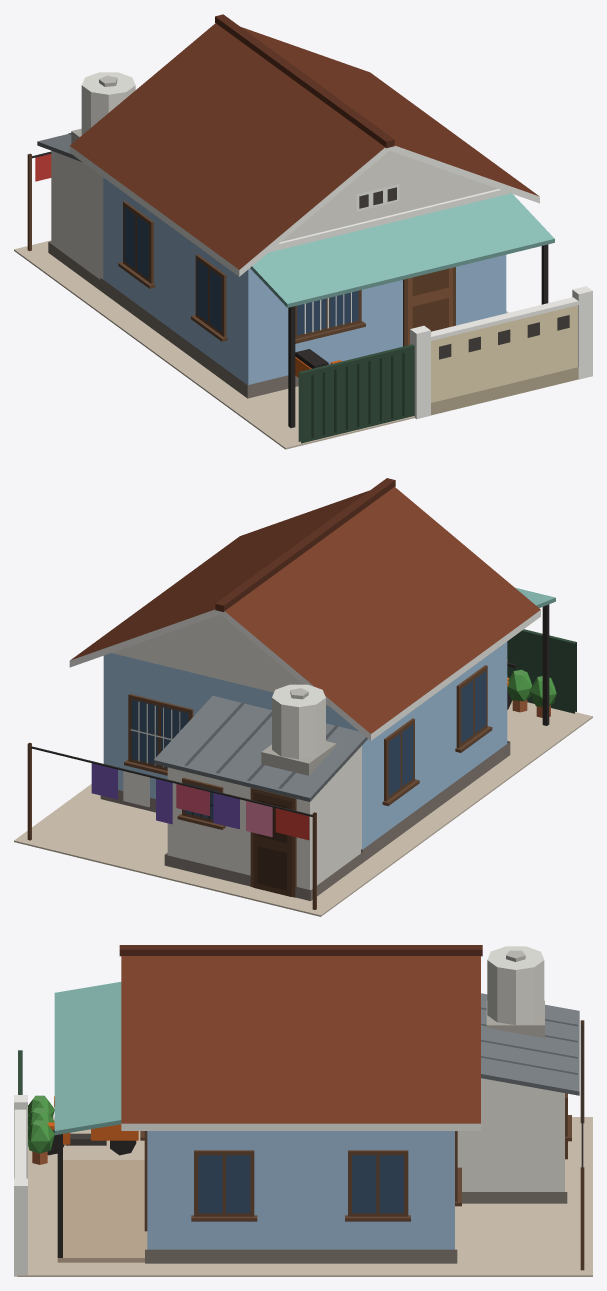
The model's file is rumah_02.glb.
3 renders of one model, top to bottom at view 1: azimuth 30°, elevation 25°; view 2: azimuth 150°, elevation 25°; view 3: azimuth 270°, elevation 25°, orthographic. The views are drawn at different scales.
Visible parts, largest first — view 1: rumah_02; view 2: rumah_02; view 3: rumah_02.
Part boxes in pixels (x1,y1,x2,y2): rumah_02: [14, 14, 592, 449]; rumah_02: [14, 478, 592, 916]; rumah_02: [14, 945, 592, 1276].
Size of the model in its own units: 6.46 by 4.76 by 9.98.
